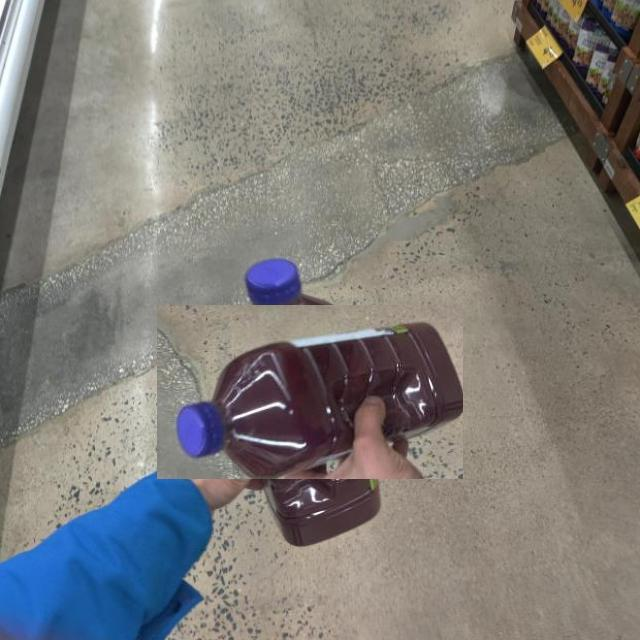Juice: (158, 304, 463, 479)
